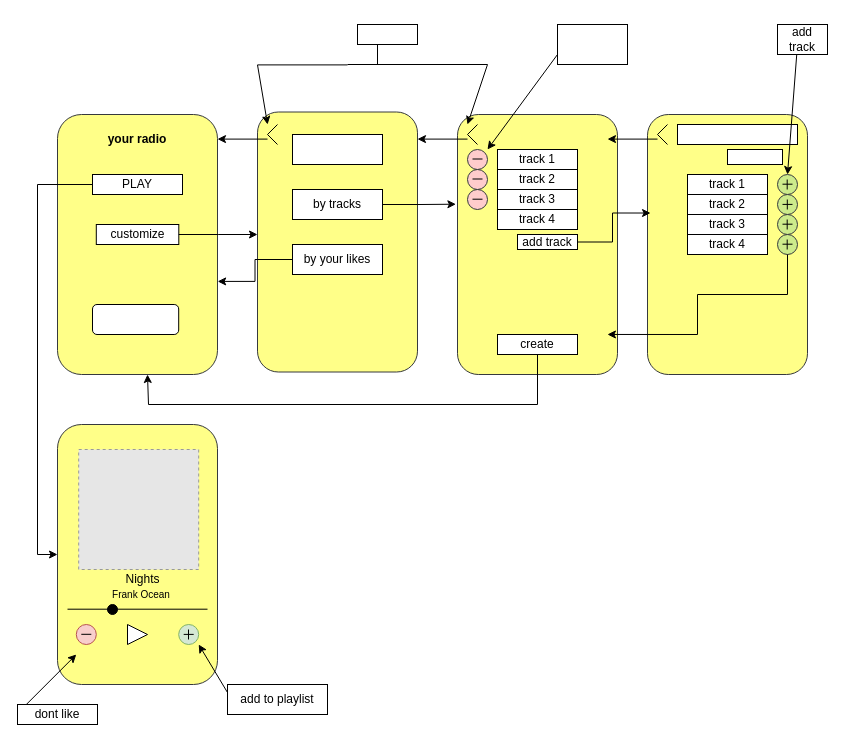
This 845x742 diagram has some shape labels left out. Grey dashed boxes stand in for pictures. The shapes that lost their labels are listed below. From the top down, each one's centre as x and y in pixels, then its label:
At point (387, 34): "back".
At point (592, 44): "remove track".
At point (337, 149): "reset settings".
At point (737, 134): "enter here your text".
At point (754, 156): "search".
At point (135, 319): "traks/likes".
